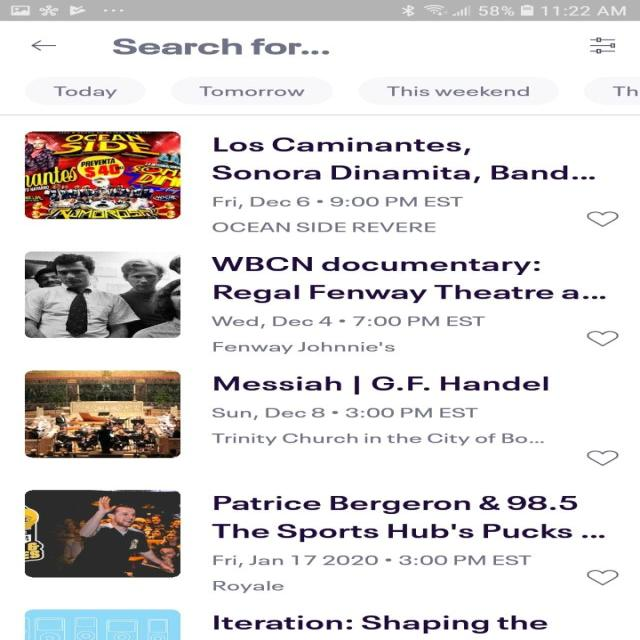Icon: (585, 330, 618, 347), (586, 211, 618, 227), (586, 450, 618, 466), (586, 569, 618, 585), (588, 37, 616, 54), (31, 40, 57, 51)
Image: (23, 489, 180, 578), (23, 131, 180, 219), (23, 250, 180, 338), (24, 370, 180, 458), (24, 608, 180, 640)
Text: (210, 256, 606, 303), (212, 495, 604, 542), (212, 136, 594, 183), (210, 407, 544, 446), (212, 554, 530, 593), (212, 315, 486, 354), (212, 196, 464, 232), (213, 614, 548, 634), (214, 376, 548, 394), (113, 38, 330, 55)
TextButton: (357, 77, 559, 105), (170, 77, 333, 105), (25, 77, 147, 105), (583, 77, 639, 106)
